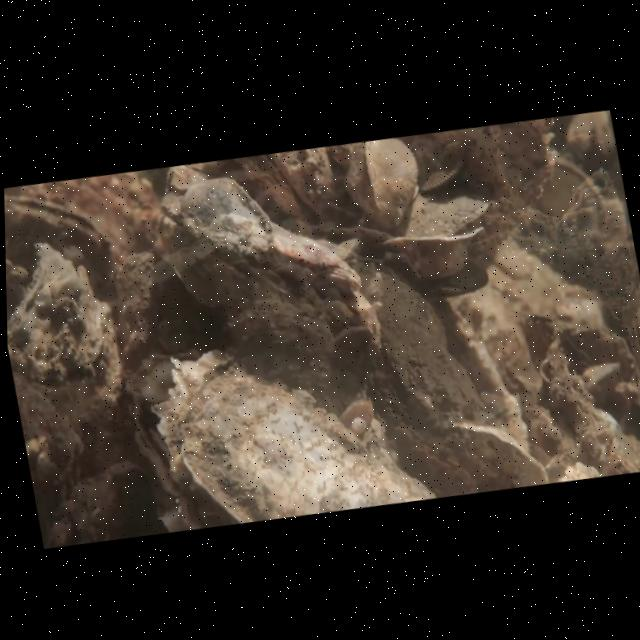Oyster-Closed: (149, 347, 444, 526), (144, 170, 391, 374), (7, 238, 131, 501), (4, 193, 116, 284), (340, 140, 423, 236), (232, 150, 337, 225), (450, 422, 550, 488), (398, 418, 482, 496), (420, 138, 474, 195), (586, 359, 625, 402)
Oyster-Indeterminate: (537, 336, 640, 472), (517, 313, 640, 382), (6, 255, 31, 312)
Oyster-Open: (381, 190, 494, 285)
